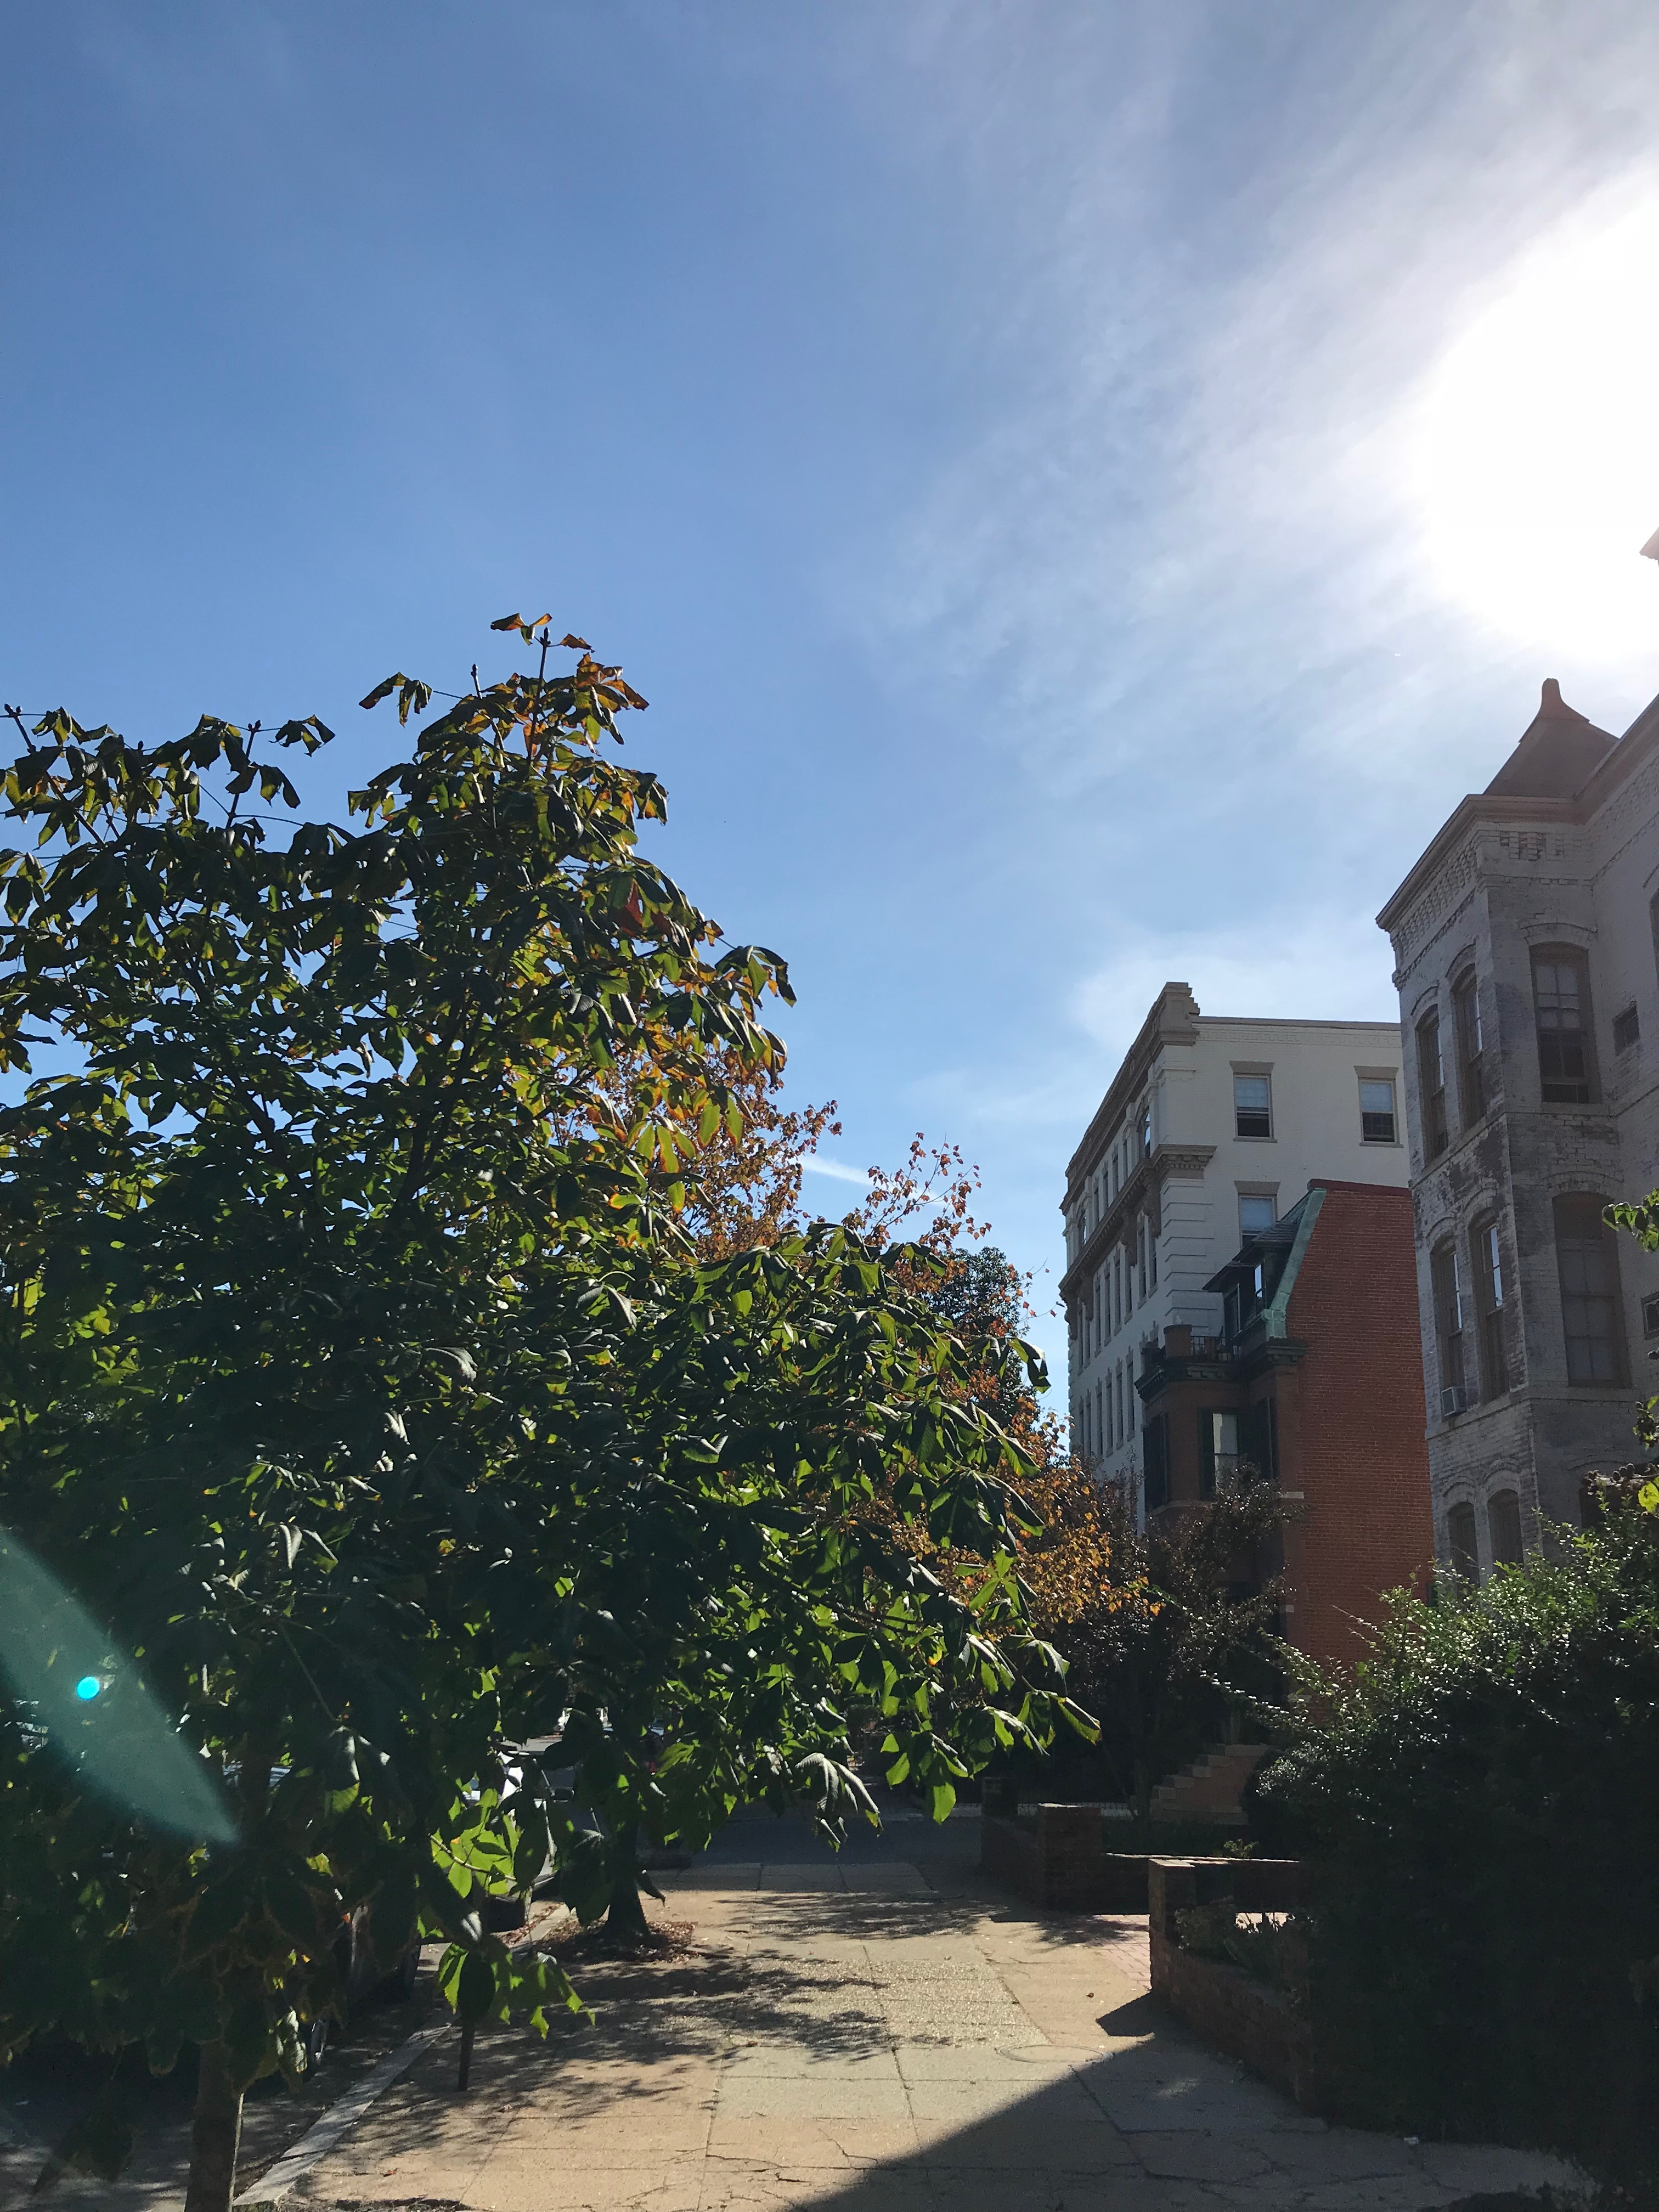flare: (73, 1676, 105, 1702)
